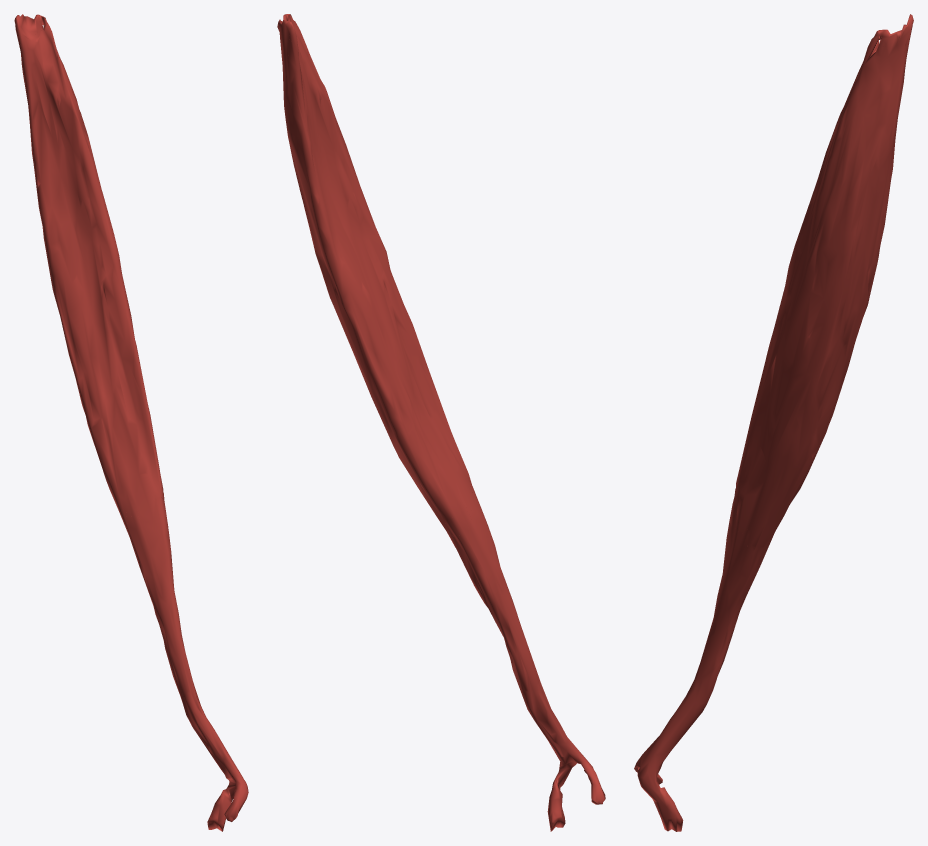
Rendered from musculos-humeral-head-of-flexor-carpi-ulnaris-r.glb.
3 renders of one model, left to right at view 1: azimuth 90°, elevation 25°; view 2: azimuth 150°, elevation 25°; view 3: azimuth 270°, elevation 25°, orthographic. The views are drawn at different scales.
Visible parts, largest first — view 1: Humeral head of flexor carpi ulnaris.r; view 2: Humeral head of flexor carpi ulnaris.r; view 3: Humeral head of flexor carpi ulnaris.r.
Boxes of the visible parts, bbox=[...] form: Humeral head of flexor carpi ulnaris.r: bbox=[14, 14, 248, 831]; Humeral head of flexor carpi ulnaris.r: bbox=[277, 14, 605, 831]; Humeral head of flexor carpi ulnaris.r: bbox=[634, 14, 913, 831].
Size of the model in its own units: 0.071 by 0.2753 by 0.0781.
